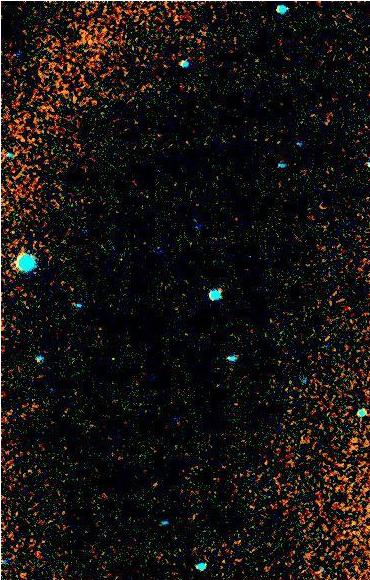star: (337, 426, 367, 456)
